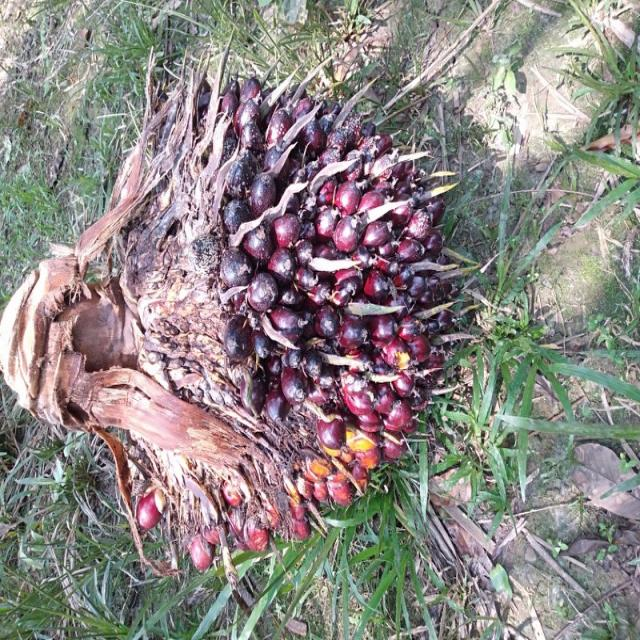fraksi 1: (69, 32, 484, 600)
